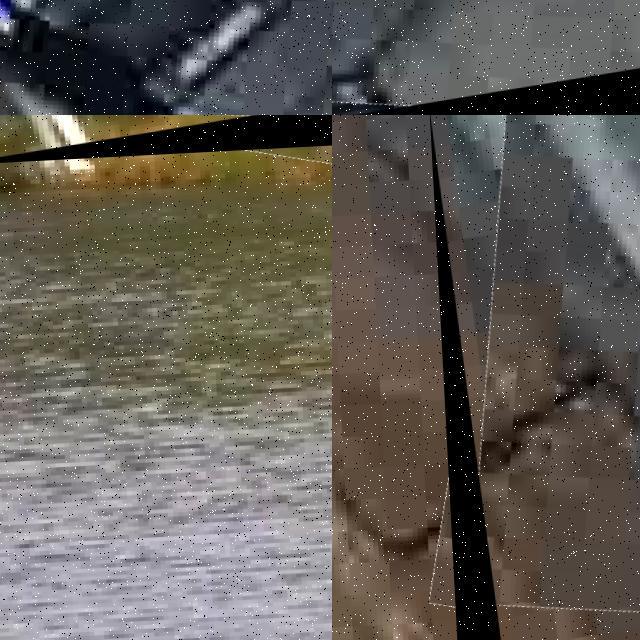drone: (429, 115, 640, 640), (0, 0, 332, 115), (332, 0, 640, 115), (0, 115, 332, 166)
